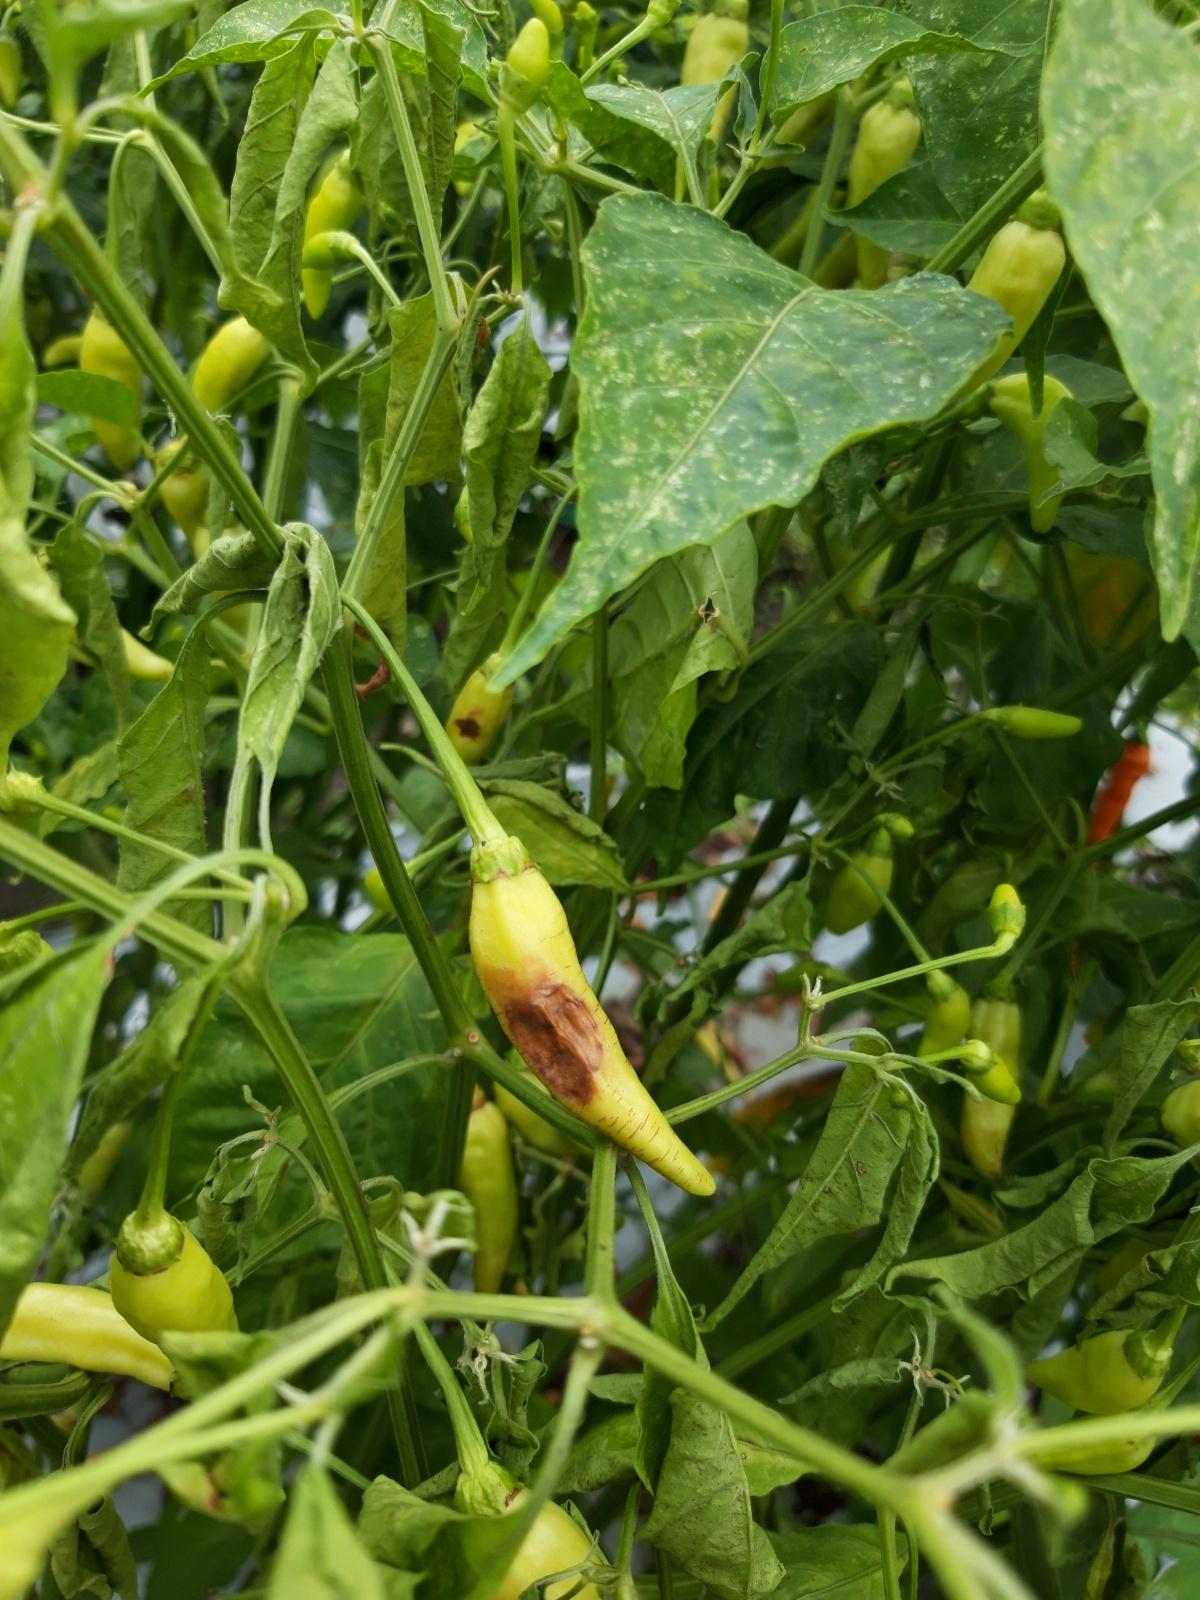cabai_normal: (944, 190, 1066, 406), (110, 1206, 242, 1342), (974, 370, 1073, 534), (852, 105, 926, 294), (1024, 1330, 1174, 1414), (458, 1081, 516, 1293), (682, 13, 751, 139), (1085, 727, 1151, 845), (916, 973, 971, 1067), (498, 16, 550, 112), (959, 1038, 1024, 1106), (983, 704, 1082, 740), (301, 231, 361, 271), (987, 884, 1026, 937)
lalat_buah: (468, 835, 717, 1197), (445, 654, 514, 767)
